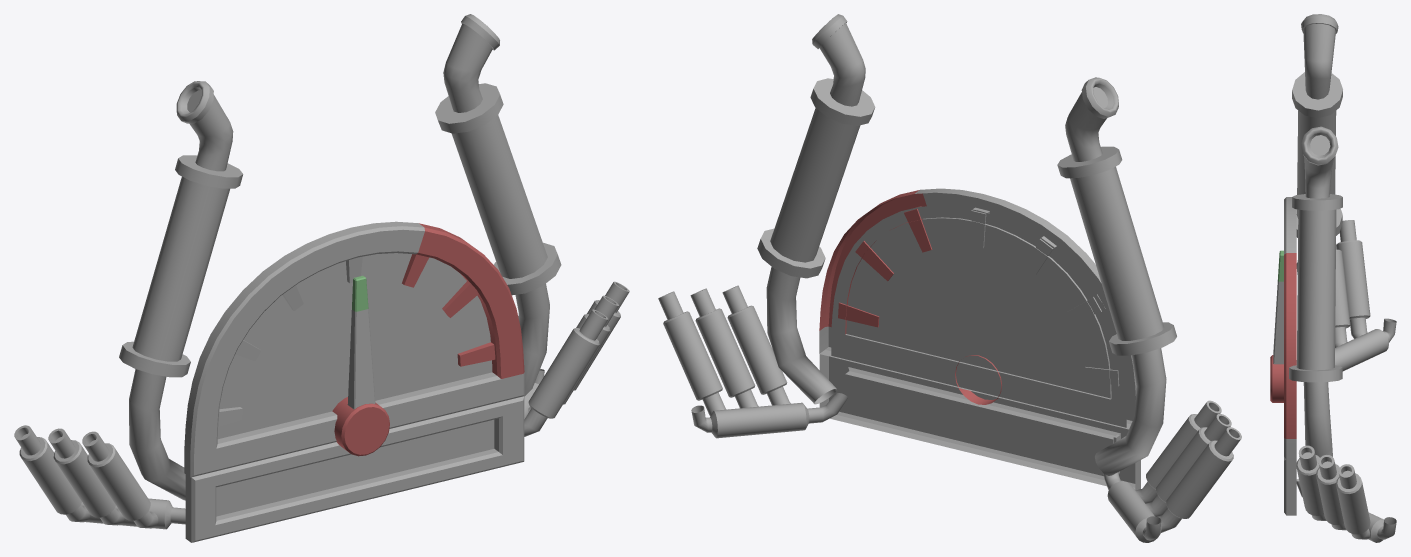
Rendered from speedometer_01.fbx.
3 views of the same model, side by side, from view 1: azimuth 30°, elevation 25°; view 2: azimuth 150°, elevation 25°; view 3: azimuth 270°, elevation 25° (orthographic). The views are drawn at different scales.
Parts seen in each view (by area): view 1: fire_01, speedometer_02, speedometer_04, bar_02, arrow_01, speedometer_03; view 2: fire_01, speedometer_02, bar_02, speedometer_04, speedometer_03; view 3: fire_01, speedometer_04, arrow_01, bar_02.
Boxes of the visible parts, x1,y1,x2,y2 form: fire_01: (14, 14, 629, 529); speedometer_02: (217, 253, 492, 439); speedometer_04: (184, 221, 524, 477); bar_02: (185, 396, 524, 542); arrow_01: (332, 275, 389, 456); speedometer_03: (218, 254, 495, 426); fire_01: (658, 14, 1241, 542); speedometer_02: (831, 205, 1126, 427); bar_02: (819, 354, 1140, 490); speedometer_04: (819, 188, 1136, 429); speedometer_03: (838, 206, 1119, 386); fire_01: (1289, 14, 1396, 542); speedometer_04: (1284, 197, 1296, 459); arrow_01: (1270, 250, 1283, 402); bar_02: (1284, 457, 1296, 515).
Bounding box in the file's own units: 346 × 237 × 72.28.
